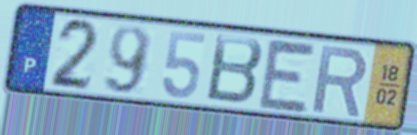2: (48, 17, 104, 93)
5: (159, 28, 208, 101)
9: (101, 23, 157, 95)
B: (203, 32, 266, 107)
E: (255, 35, 320, 116)
R: (310, 42, 371, 119)
